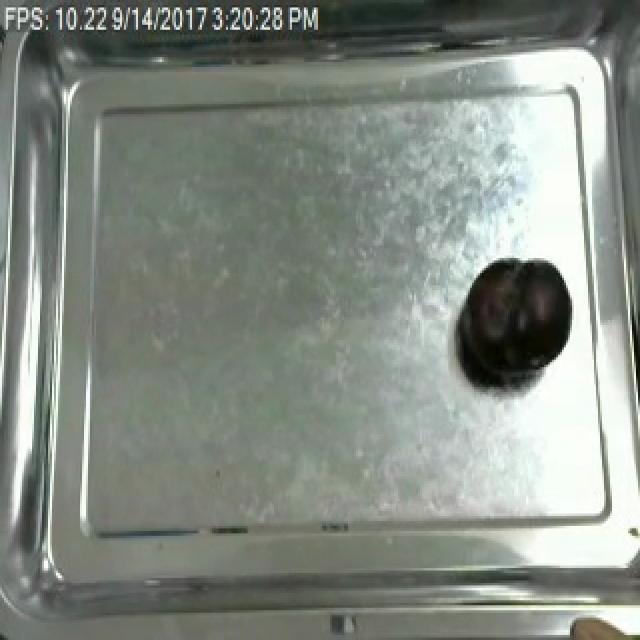Fruit: (454, 253, 574, 387), (556, 608, 640, 640)
